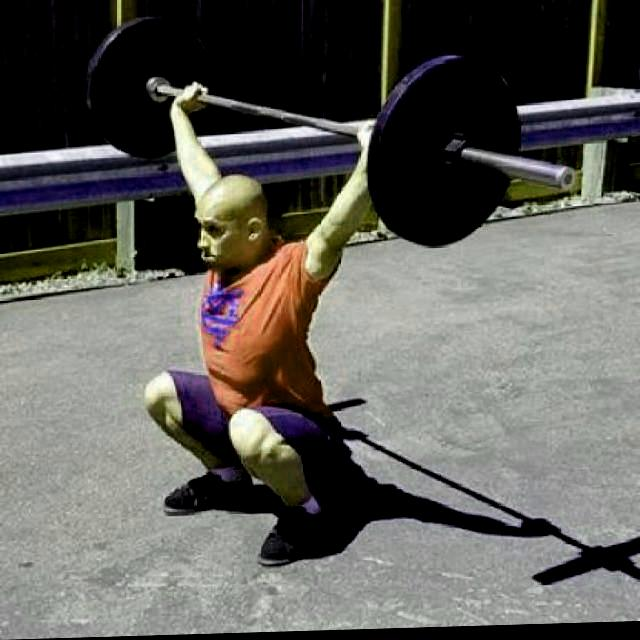barbell: (369, 55, 580, 256)
